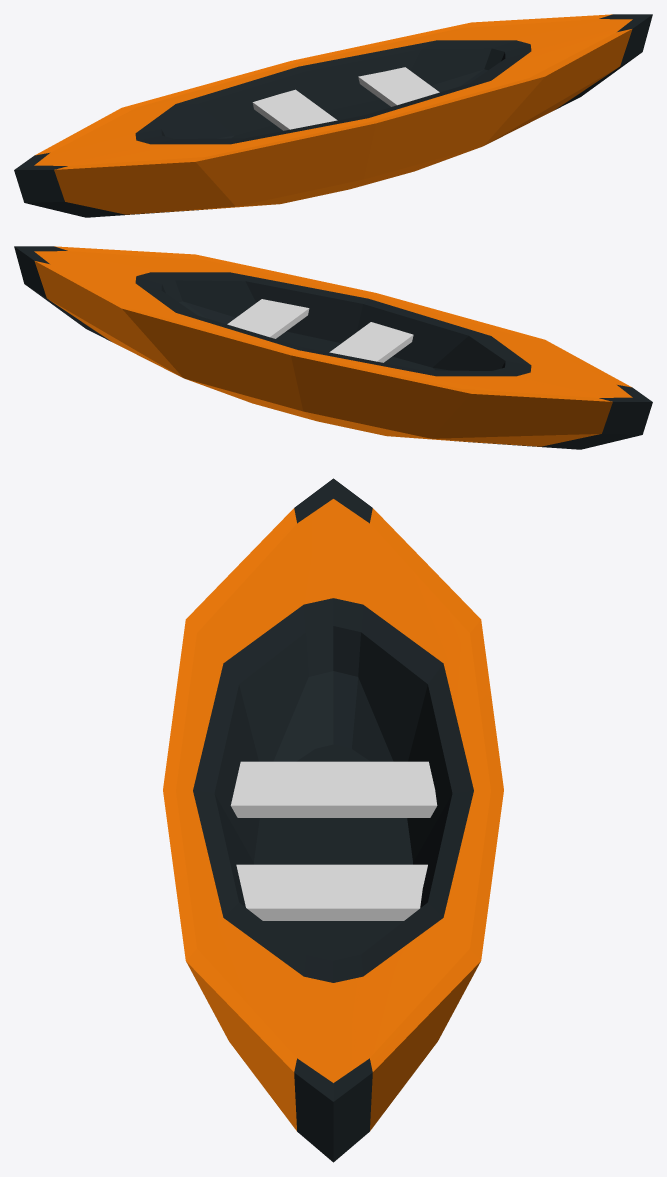
Rendered from Kayak_01.fbx.
3 renders of one model, top to bottom at view 1: azimuth 30°, elevation 25°; view 2: azimuth 150°, elevation 25°; view 3: azimuth 270°, elevation 25°, orthographic. The views are drawn at different scales.
Parts seen in each view (by area): view 1: Kayak_01; view 2: Kayak_01; view 3: Kayak_01.
Boxes of the visible parts, x1,y1,x2,y2 form: Kayak_01: (14,14,652,217); Kayak_01: (14,246,652,449); Kayak_01: (163,478,503,1162).
Size of the model in its own units: 277 by 38.19 by 63.93.
